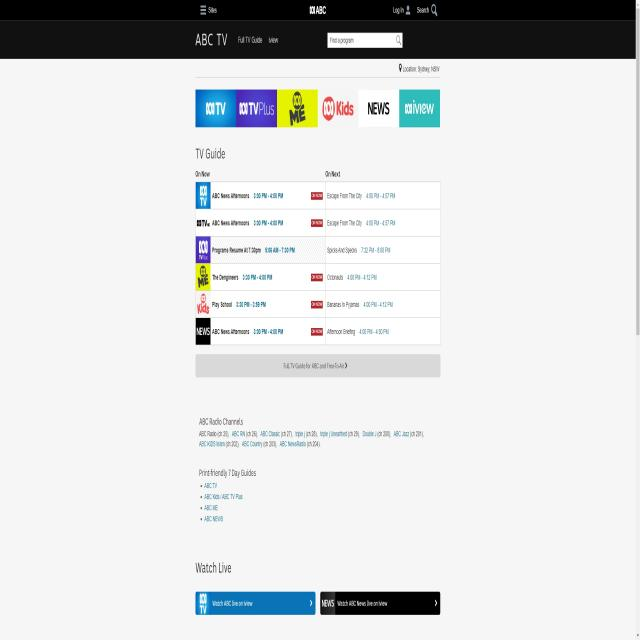menu-bar: (234, 28, 288, 55)
search: (324, 31, 404, 48)
